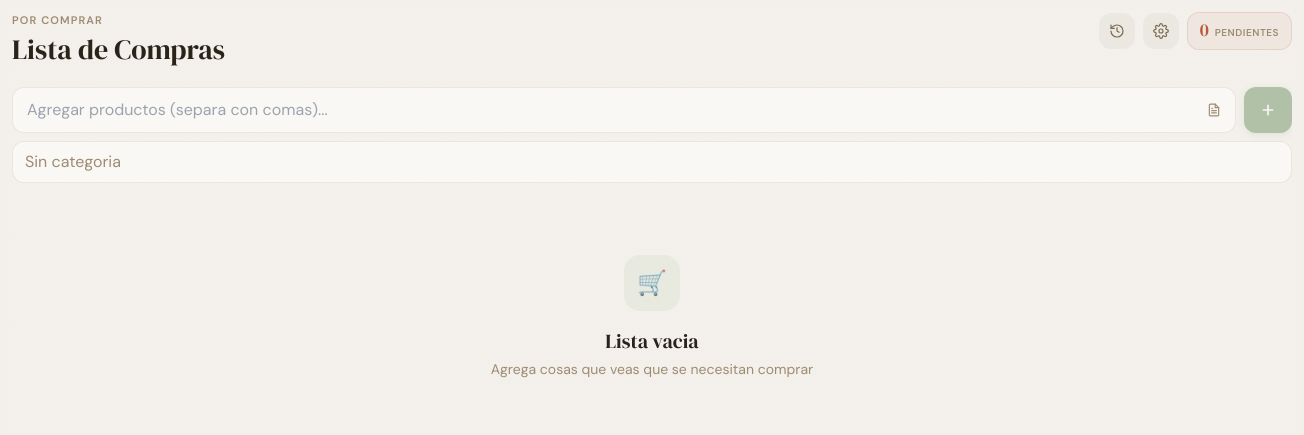
Scenario: ShoppingList — Smart Tags integration › aceptar sugerencia actualiza el dropdown de categoría
Type "detergente" into the field with placeholder "Agregar productos (separa con comas)...". click: (624, 110)
box: [12,86,1236,132]
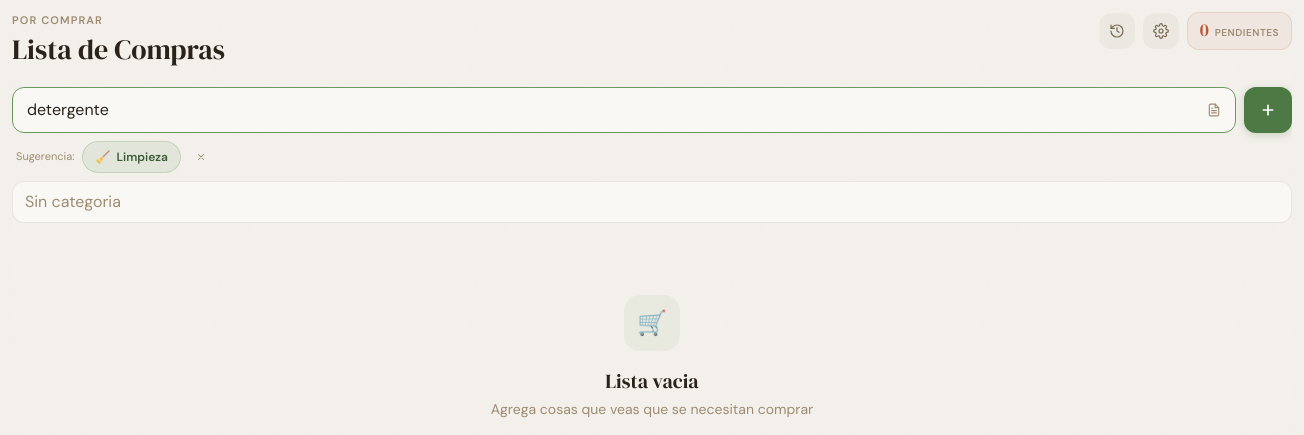
Click the suggestion chip (the button with the category name)
Click the button "🧹 Limpieza". click: (132, 156)
box: [82,140,181,172]
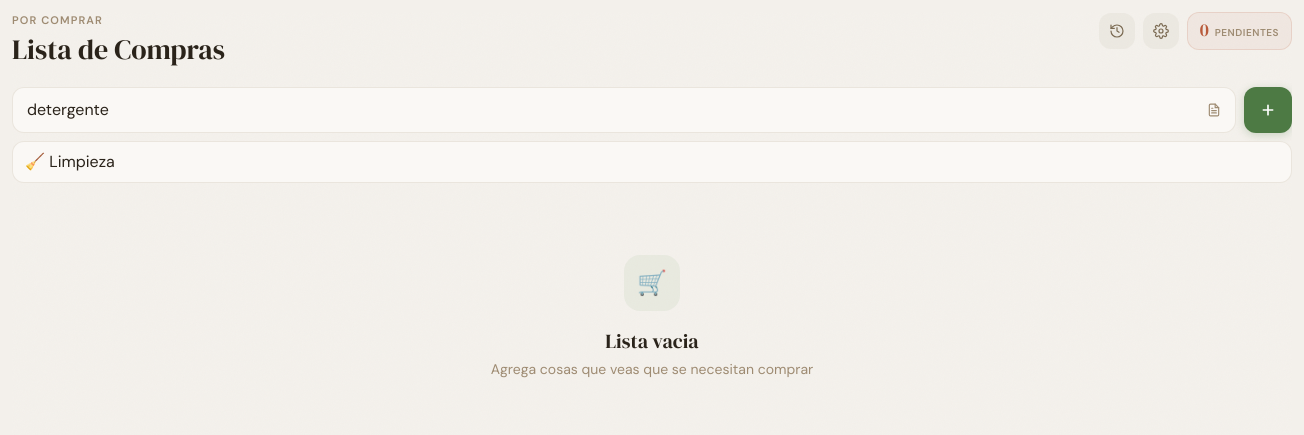
Expected: the text "Sugerencia:" is gone
Expected: the dropdown shows "🧹 Limpieza", [12,140,1292,182]
